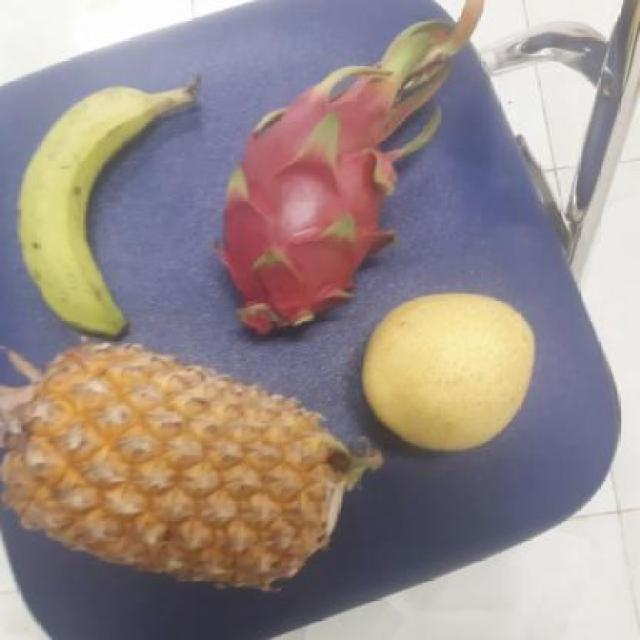banana: (9, 87, 183, 331)
dragon fruit: (199, 84, 423, 333)
pear: (362, 286, 536, 460)
pineapple: (0, 338, 355, 586)
